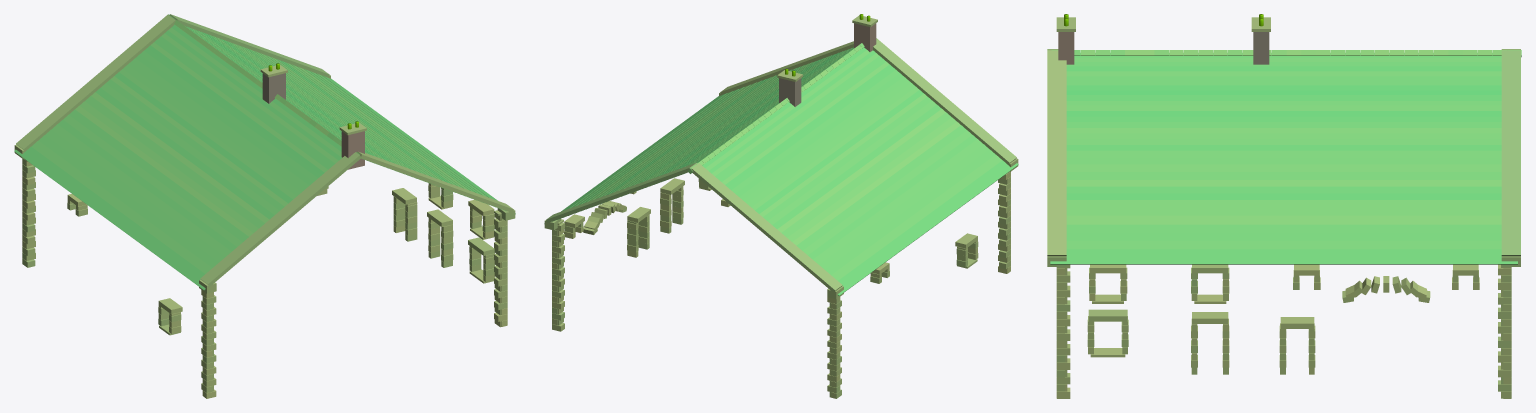
File: SM_Bld_144_Stone.glb
3 views of the same model, side by side, from view 1: azimuth 30°, elevation 25°; view 2: azimuth 150°, elevation 25°; view 3: azimuth 270°, elevation 25° (orthographic). The views are drawn at different scales.
Visible parts, largest first — view 1: SM_Bld_144_Stone; view 2: SM_Bld_144_Stone; view 3: SM_Bld_144_Stone.
Part boxes in pixels (x1=…): SM_Bld_144_Stone: x1=14, y1=14, x2=515, y2=398; SM_Bld_144_Stone: x1=544, y1=14, x2=1018, y2=398; SM_Bld_144_Stone: x1=1047, y1=14, x2=1521, y2=398.
Bounding box in the file's own units: 16.61 × 12.02 × 17.75.
